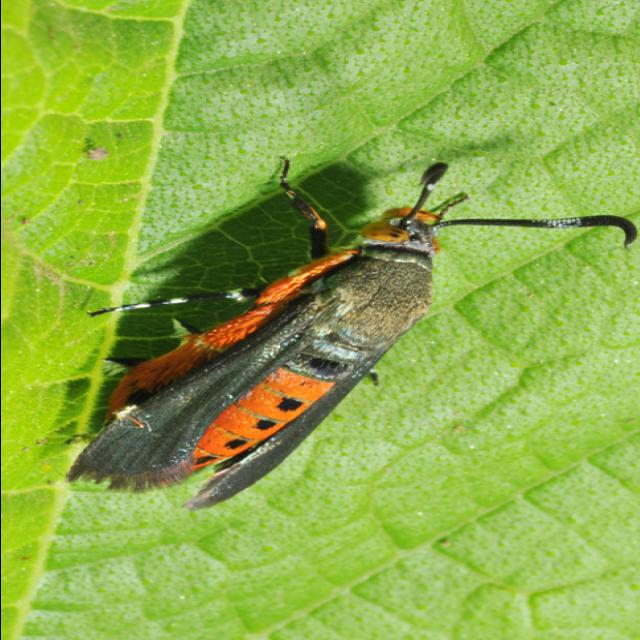squash_vine_borer: (52, 134, 638, 501)
